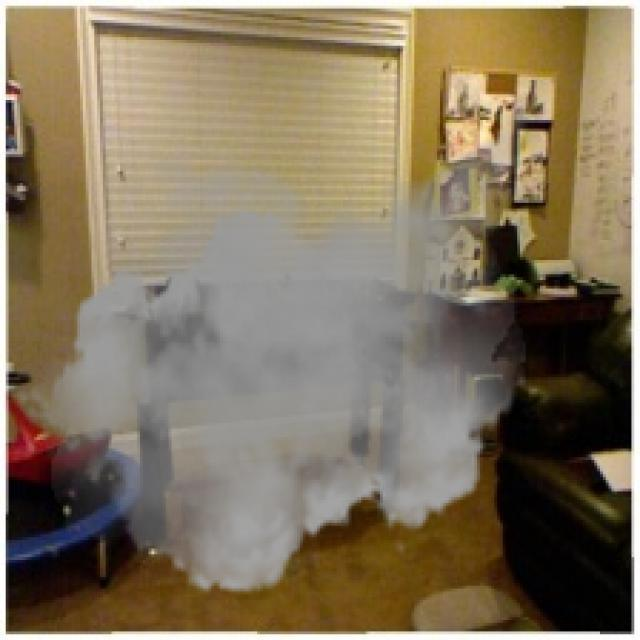Smoke: (14, 71, 546, 608)
